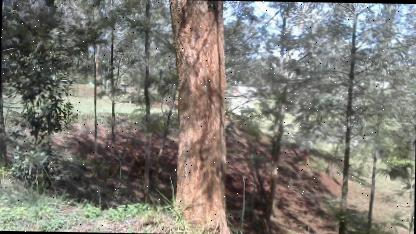tree: (159, 0, 242, 232)
